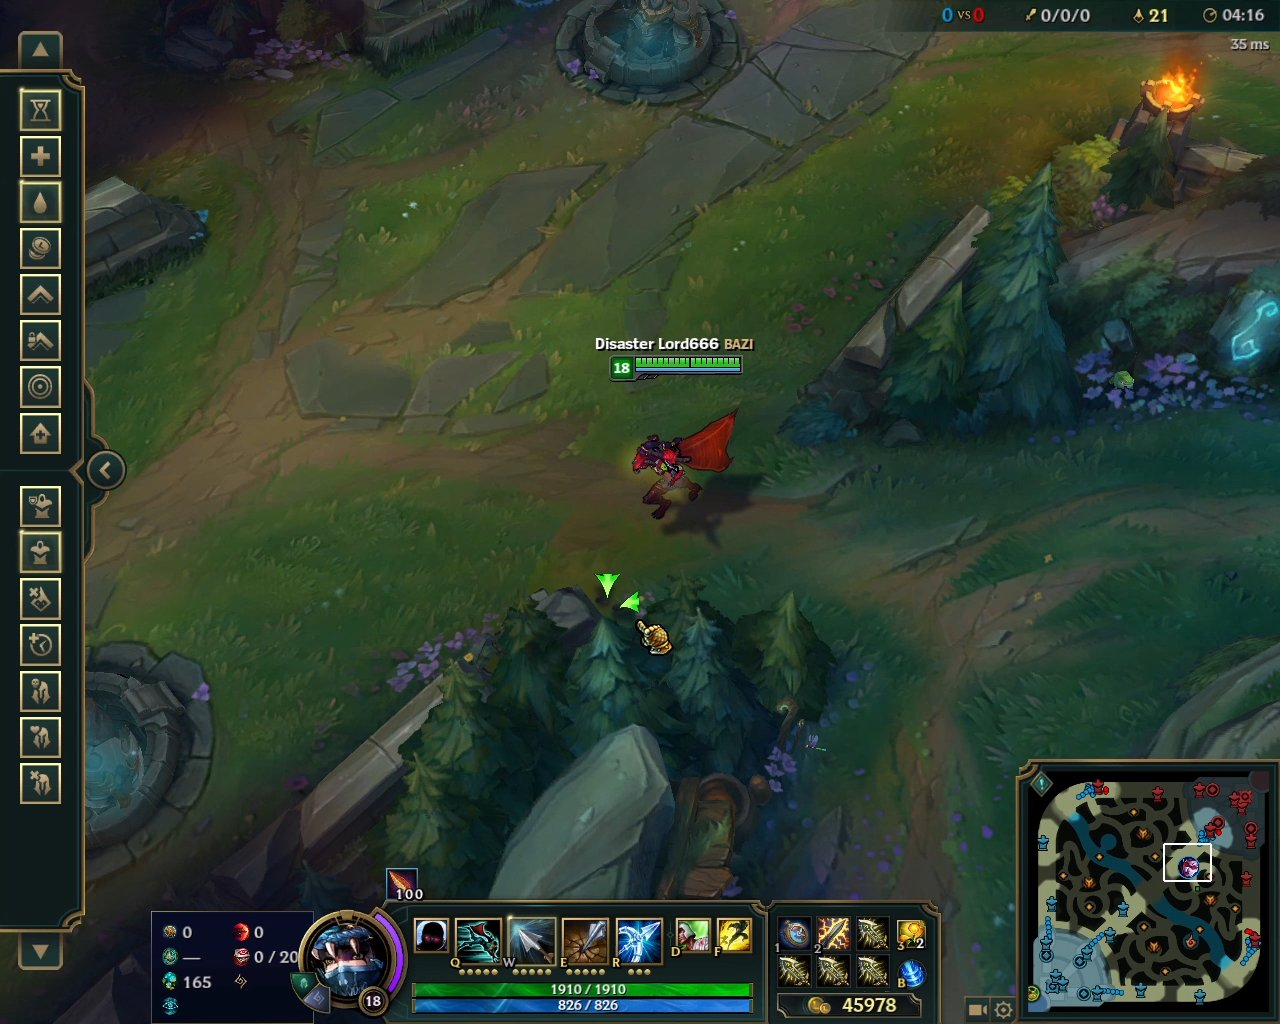Vayne: (624, 397, 753, 525)
